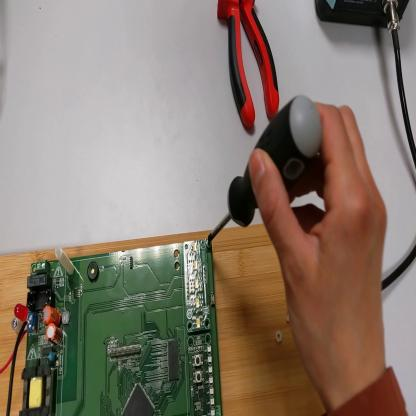hand: (251, 101, 391, 393)
low voltage board: (1, 239, 223, 416)
pliers: (216, 1, 282, 137)
screwdriver-: (209, 96, 326, 243)
welder station: (316, 1, 409, 35)
working area: (1, 224, 328, 416)
